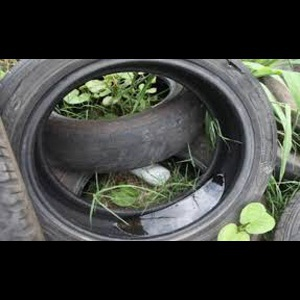tire: (1, 58, 278, 241), (5, 59, 207, 173)
